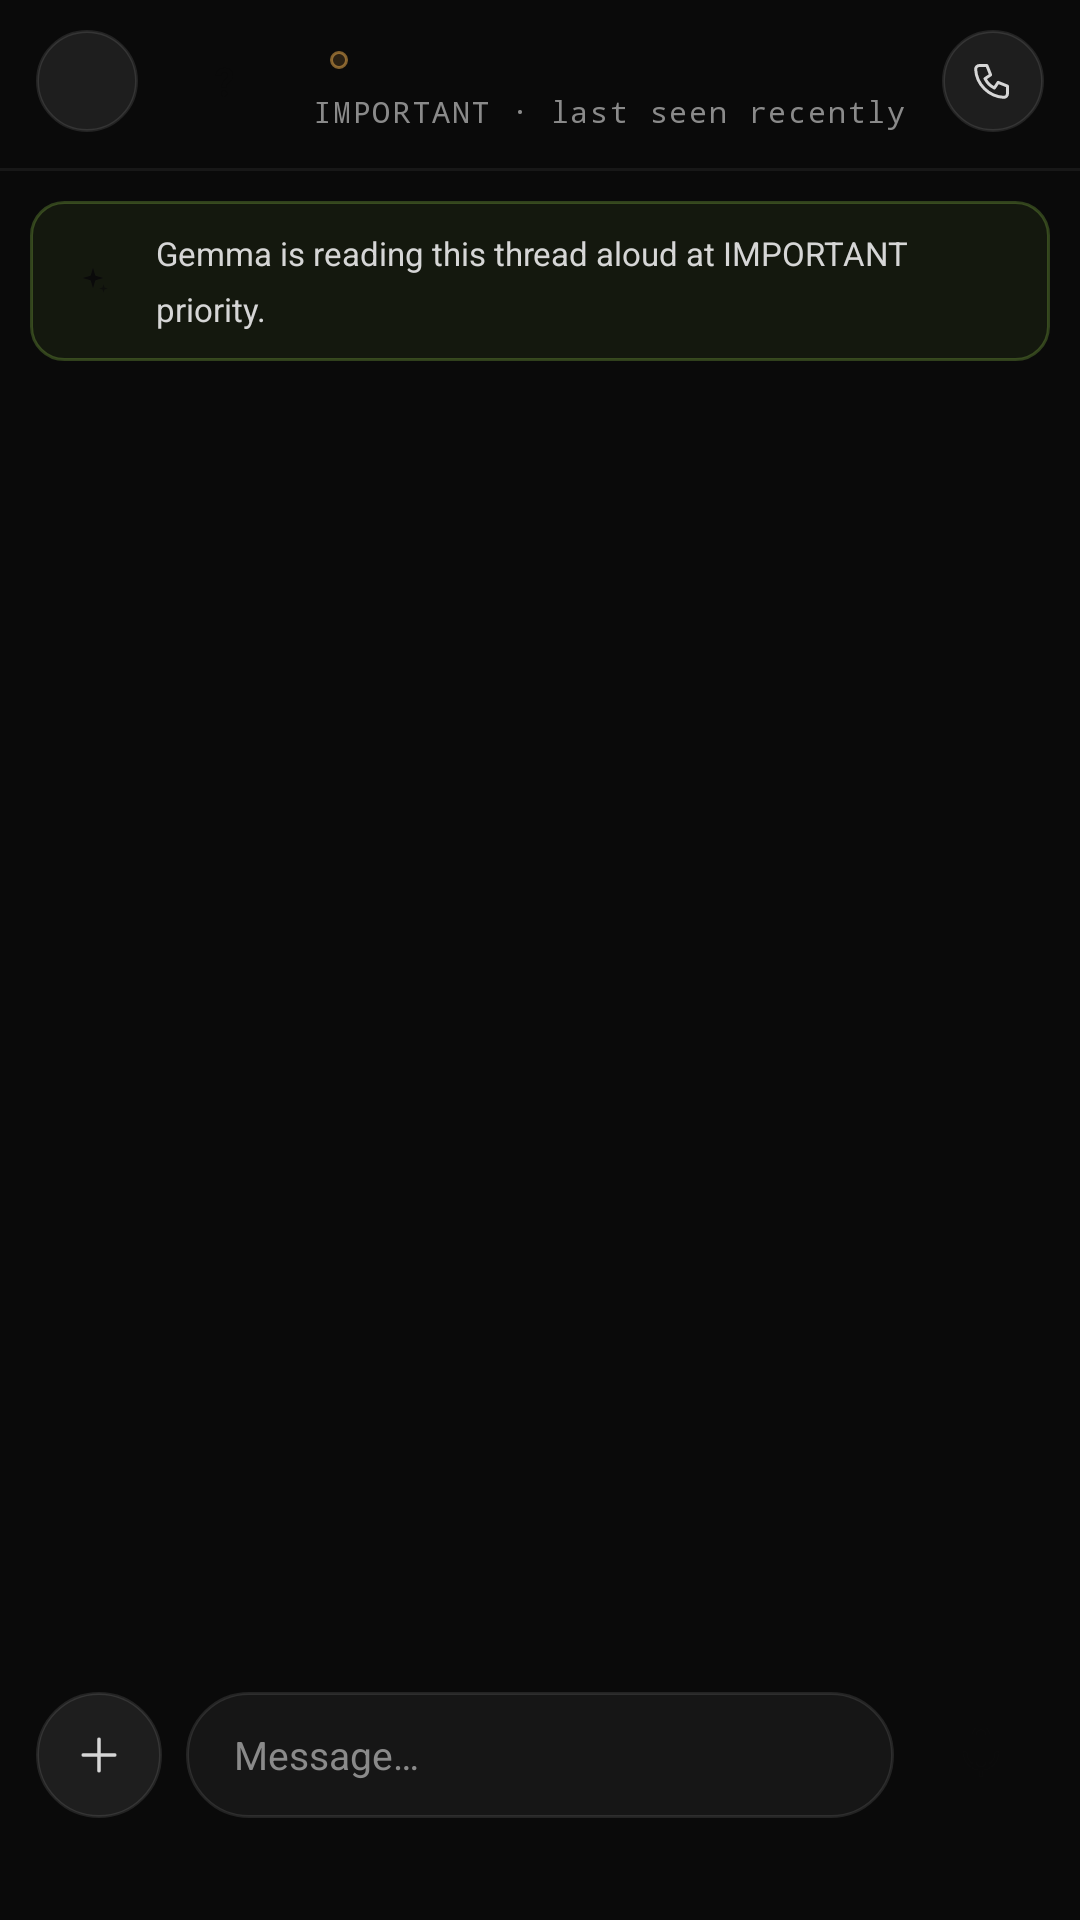

Icons on this 1080px×1920px Android screen, each with its box as (x1, y1, x2, y2):
Attach: (81, 1737, 117, 1773)
Call: (974, 64, 1009, 99)
